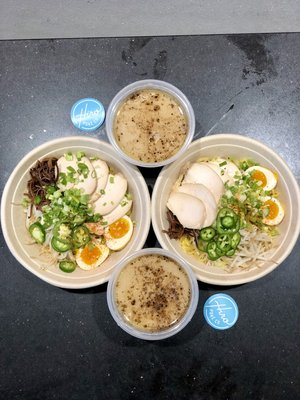sushi: (150, 133, 300, 287), (1, 136, 151, 290), (106, 248, 200, 341), (105, 79, 195, 167)
